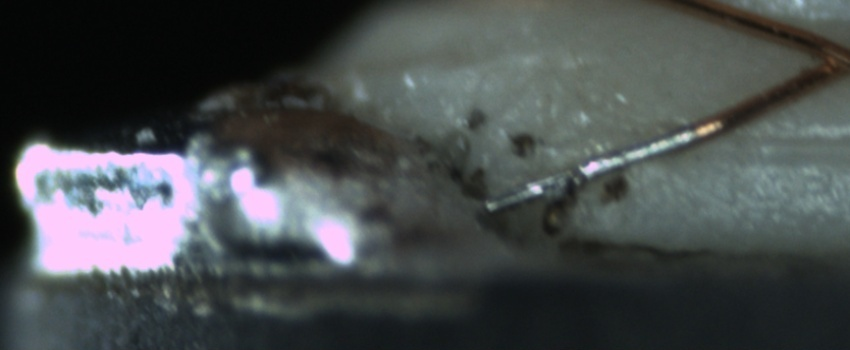CL: (796, 30, 850, 88)
DL: (682, 117, 847, 185)
TS: (482, 120, 686, 215)
TTCW: (477, 101, 737, 217)
